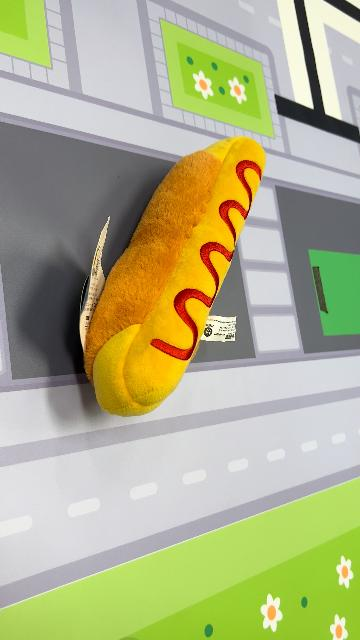hotdog: (82, 134, 268, 418)
